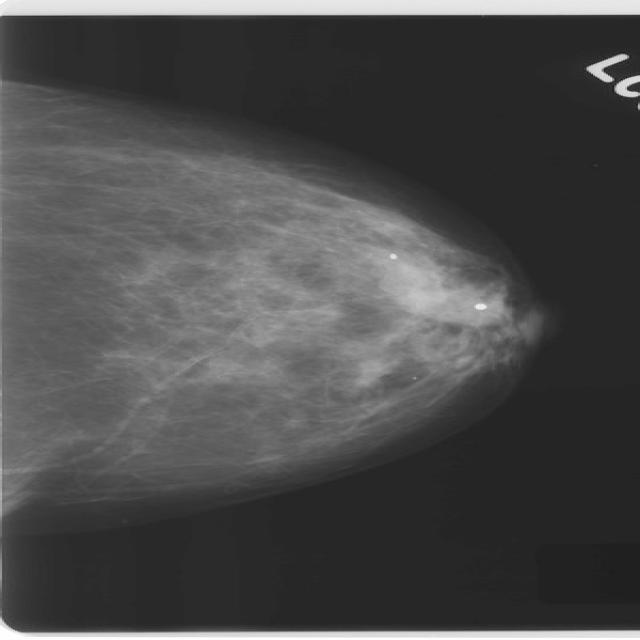tumour: (382, 262, 505, 322)
